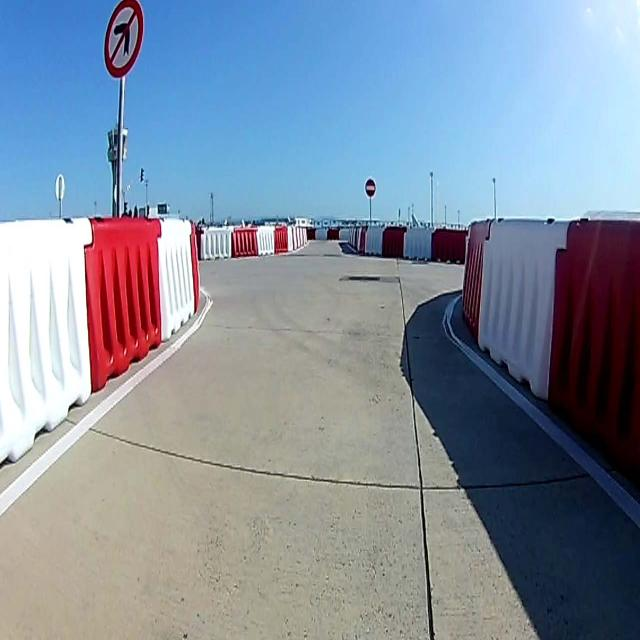girisyok: (365, 177, 376, 201)
soladonulmez: (104, 5, 142, 79)
